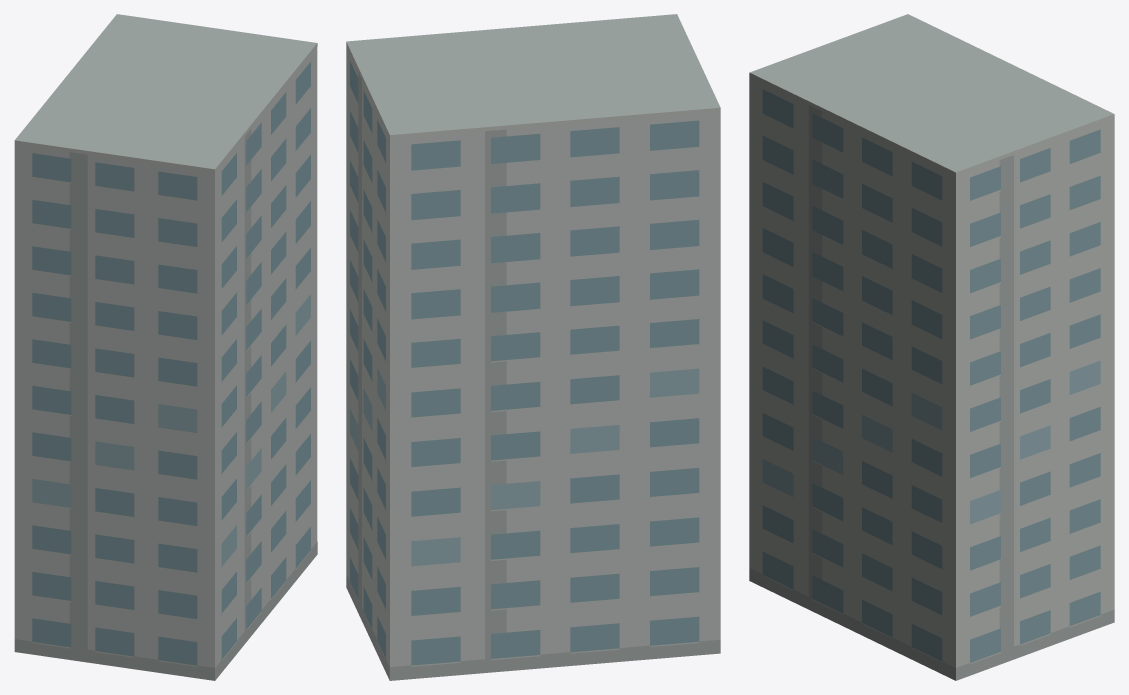
The model's file is residential-572c521d-d9a4-47f3-8576-a0fad5ae2f76.glb.
The picture shows the model from 3 angles, left to right: view 1: azimuth 30°, elevation 25°; view 2: azimuth 150°, elevation 25°; view 3: azimuth 270°, elevation 25°; orthographic projection. The views are drawn at different scales.
Visible parts, largest first — view 1: residential-572c521d-d9a4-47f3-8576-a0fad5ae2f76.tmp; view 2: residential-572c521d-d9a4-47f3-8576-a0fad5ae2f76.tmp; view 3: residential-572c521d-d9a4-47f3-8576-a0fad5ae2f76.tmp.
Boxes of the visible parts, x1,y1,x2,y2 form: residential-572c521d-d9a4-47f3-8576-a0fad5ae2f76.tmp: (14,14,317,680); residential-572c521d-d9a4-47f3-8576-a0fad5ae2f76.tmp: (346,14,720,680); residential-572c521d-d9a4-47f3-8576-a0fad5ae2f76.tmp: (749,14,1114,680).
Size of the model in its own units: 22.08 by 33 by 21.48.
